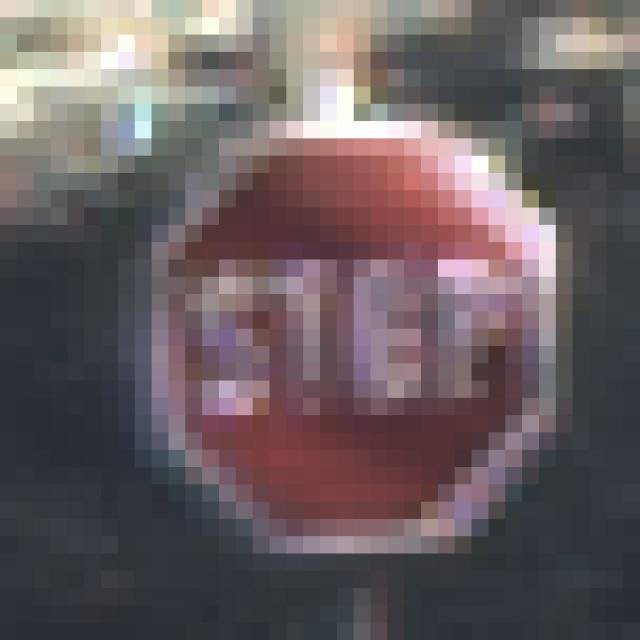STOP: (102, 105, 540, 554)
